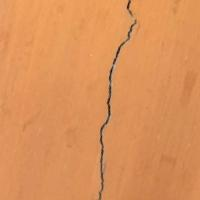crack: (88, 0, 147, 199)
